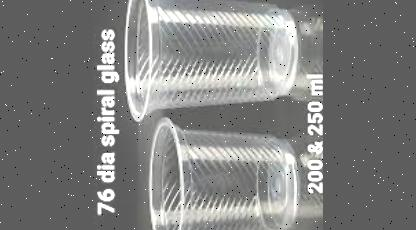Others: (126, 0, 298, 119), (149, 118, 297, 230)
